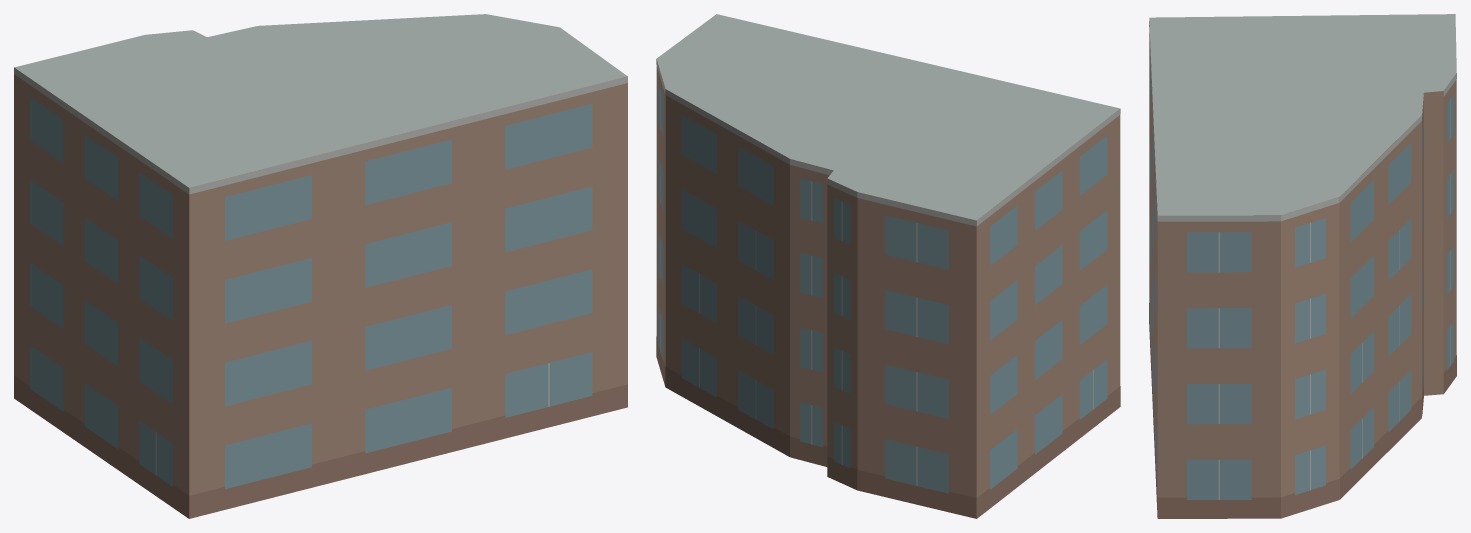
The model's file is survey-upis-32663833.glb.
The picture shows the model from 3 angles, left to right: view 1: azimuth 30°, elevation 25°; view 2: azimuth 150°, elevation 25°; view 3: azimuth 270°, elevation 25°; orthographic projection. The views are drawn at different scales.
Parts seen in each view (by area): view 1: survey-upis-32663833.tmp; view 2: survey-upis-32663833.tmp; view 3: survey-upis-32663833.tmp.
Boxes of the visible parts, bbox=[...] form: survey-upis-32663833.tmp: bbox=[14, 14, 627, 518]; survey-upis-32663833.tmp: bbox=[656, 14, 1120, 518]; survey-upis-32663833.tmp: bbox=[1149, 14, 1456, 518].
Bounding box in the file's own units: 17.41 × 12.2 × 11.23.
